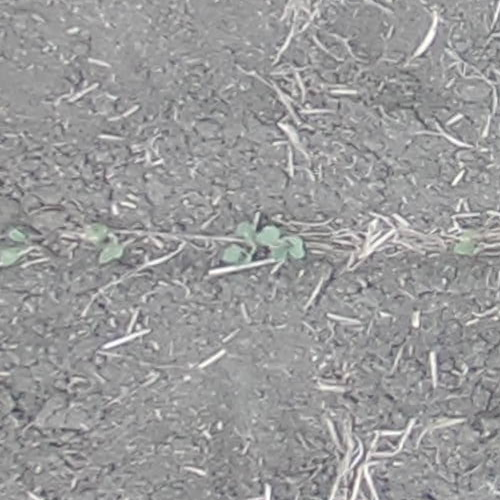plant: (220, 220, 307, 266), (83, 223, 122, 264), (1, 225, 30, 268), (453, 227, 481, 256)
